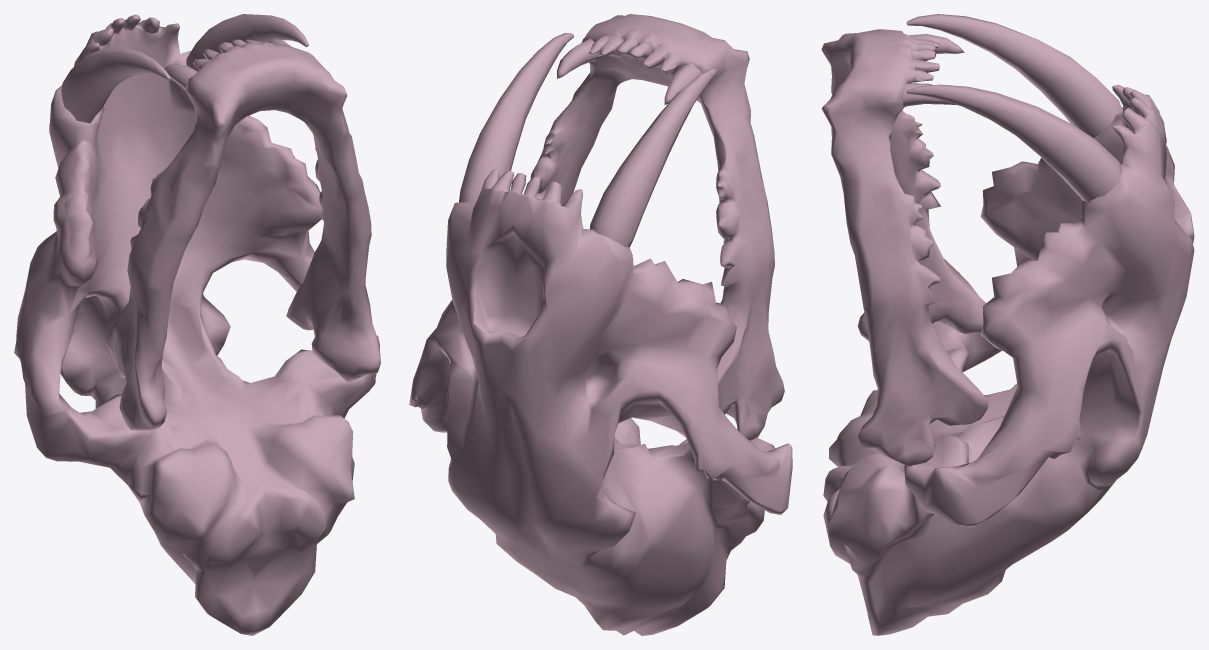
Rendered from Bone_005_1.FBX.
3 renders of one model, left to right at view 1: azimuth 30°, elevation 25°; view 2: azimuth 150°, elevation 25°; view 3: azimuth 270°, elevation 25°, orthographic. The views are drawn at different scales.
Parts seen in each view (by area): view 1: Bone_005_1_LOD0; view 2: Bone_005_1_LOD0; view 3: Bone_005_1_LOD0.
Boxes of the visible parts, x1,y1,x2,y2 form: Bone_005_1_LOD0: (14, 14, 380, 635); Bone_005_1_LOD0: (409, 14, 792, 635); Bone_005_1_LOD0: (821, 14, 1194, 635).
Bounding box in the file's own units: 132 × 125 × 220.
